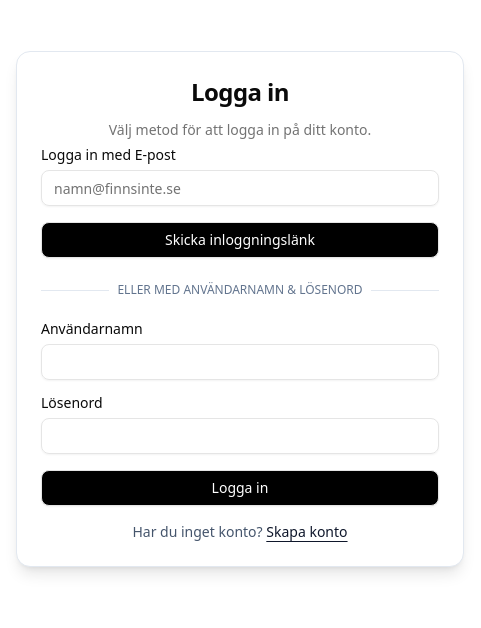
Scenario: Page: Login › borde visa fel meddelande om magic link misslyckas
Step 1. Type "fel@example.com" into the field labelled "Logga in med E-post" → (240, 188), box [41,170,439,206]
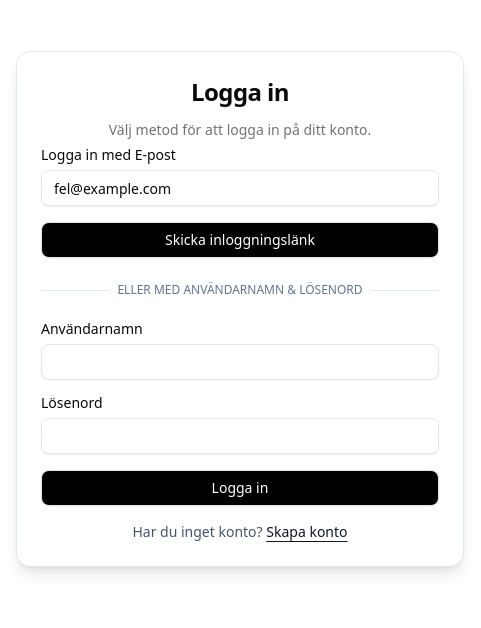
Step 2. Click the button "Skicka inloggningslänk" → (240, 240), box [41,222,439,258]
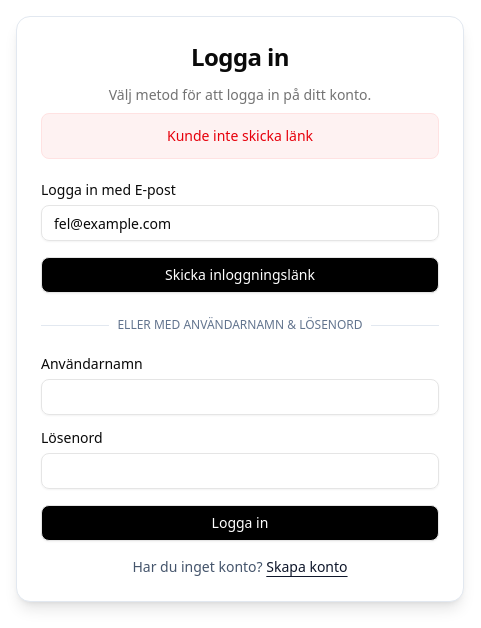
Expected: the text "Kunde inte skicka länk" is shown, [41,113,439,159]
